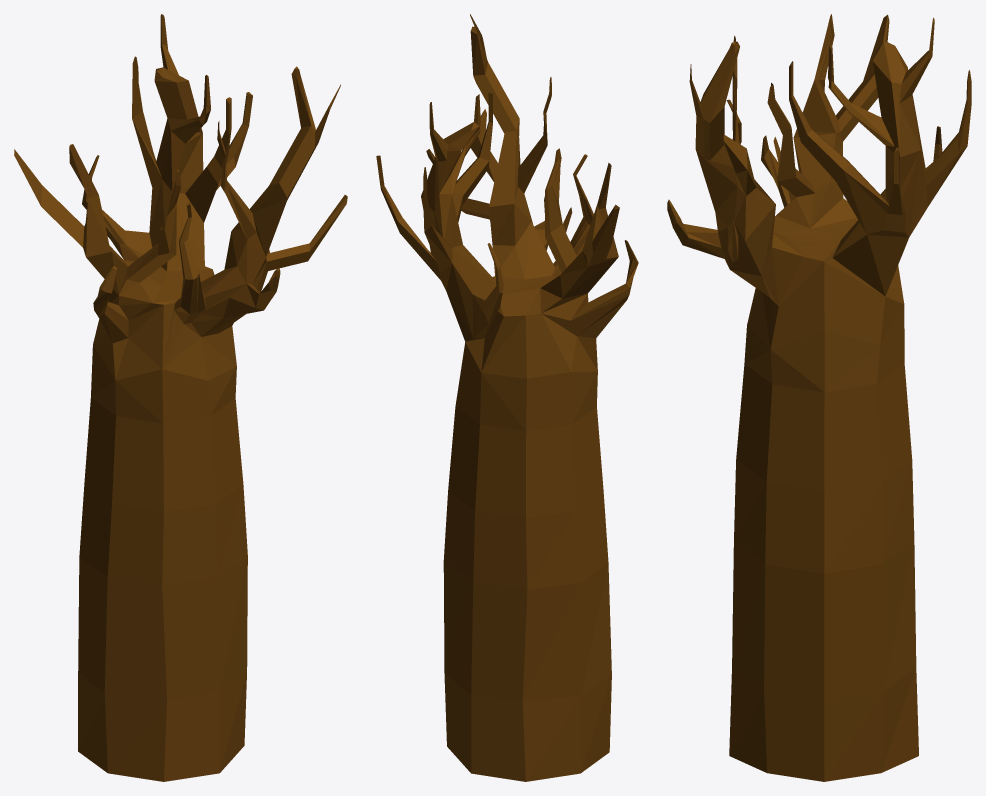
Rendered from baobab.fbx.
3 views of the same model, side by side, from view 1: azimuth 30°, elevation 25°; view 2: azimuth 150°, elevation 25°; view 3: azimuth 270°, elevation 25° (orthographic). The views are drawn at different scales.
Visible parts, largest first — view 1: Cylinder001; view 2: Cylinder001; view 3: Cylinder001.
Part boxes in pixels (x1,y1,x2,y2): Cylinder001: (14, 14, 347, 781); Cylinder001: (376, 14, 638, 781); Cylinder001: (667, 14, 971, 781).
Bounding box in the file's own units: 174 × 427 × 156.
